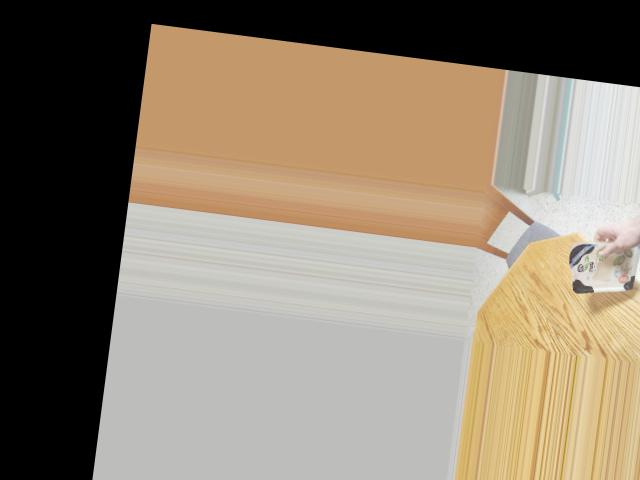cheese: (563, 228, 640, 301)
